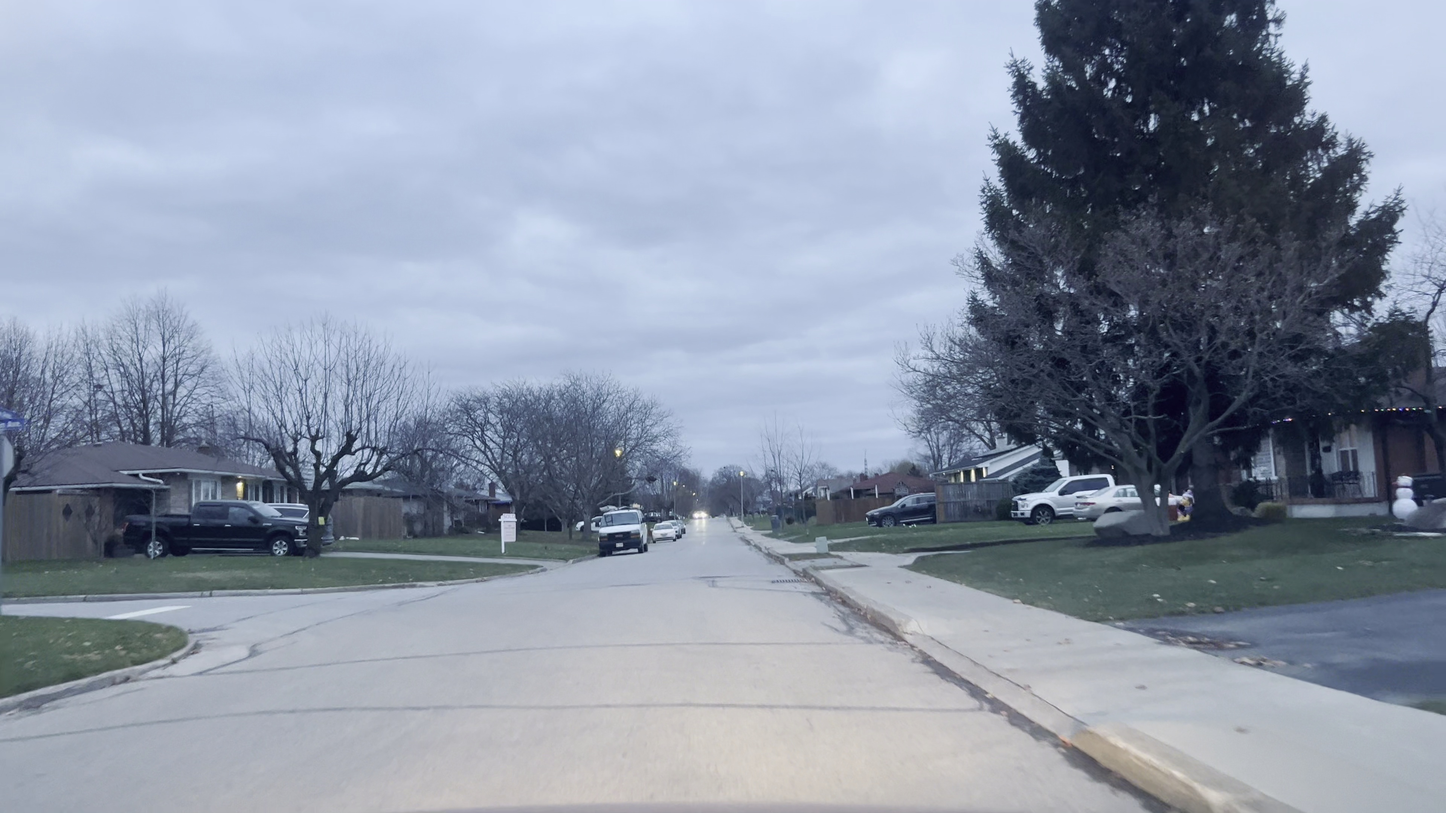cracks: (507, 698, 977, 718), (811, 586, 880, 641), (204, 628, 265, 677)
